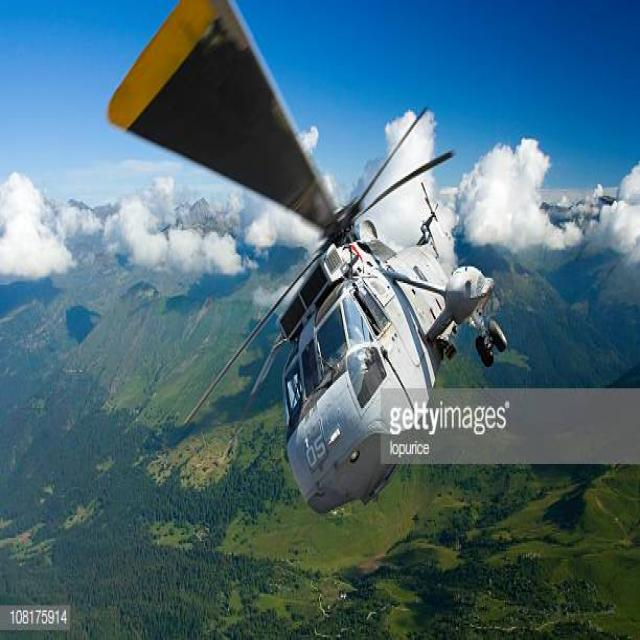helicopter: (99, 3, 513, 519)
